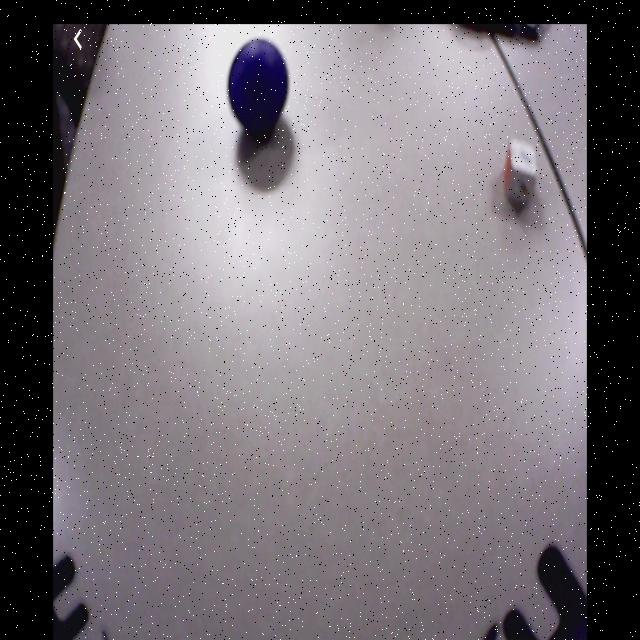ball: (228, 41, 289, 138)
